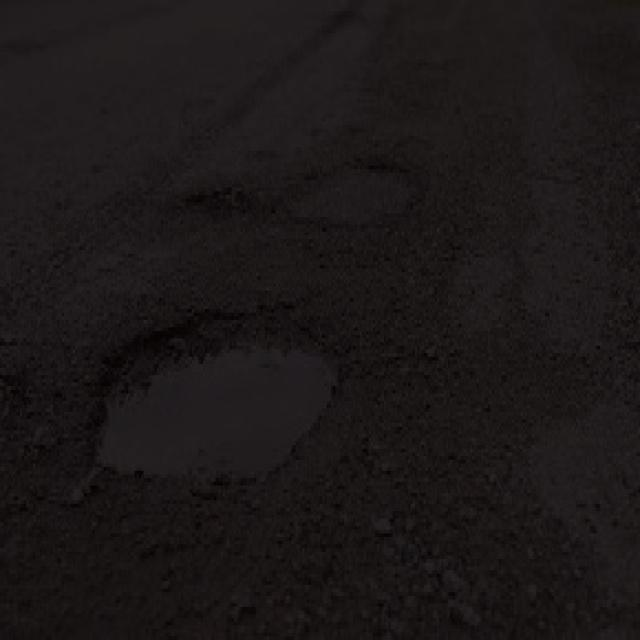Pothole: (53, 288, 359, 504), (262, 142, 439, 230), (186, 180, 259, 229)
